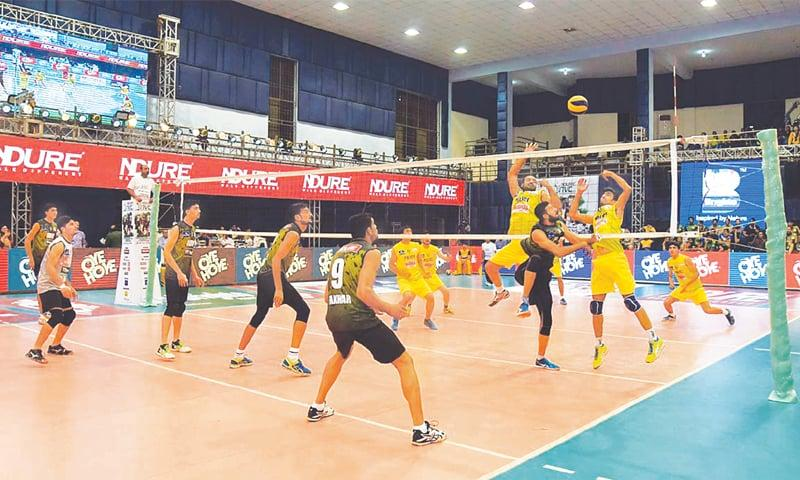ballon_volley: (567, 94, 589, 117)
